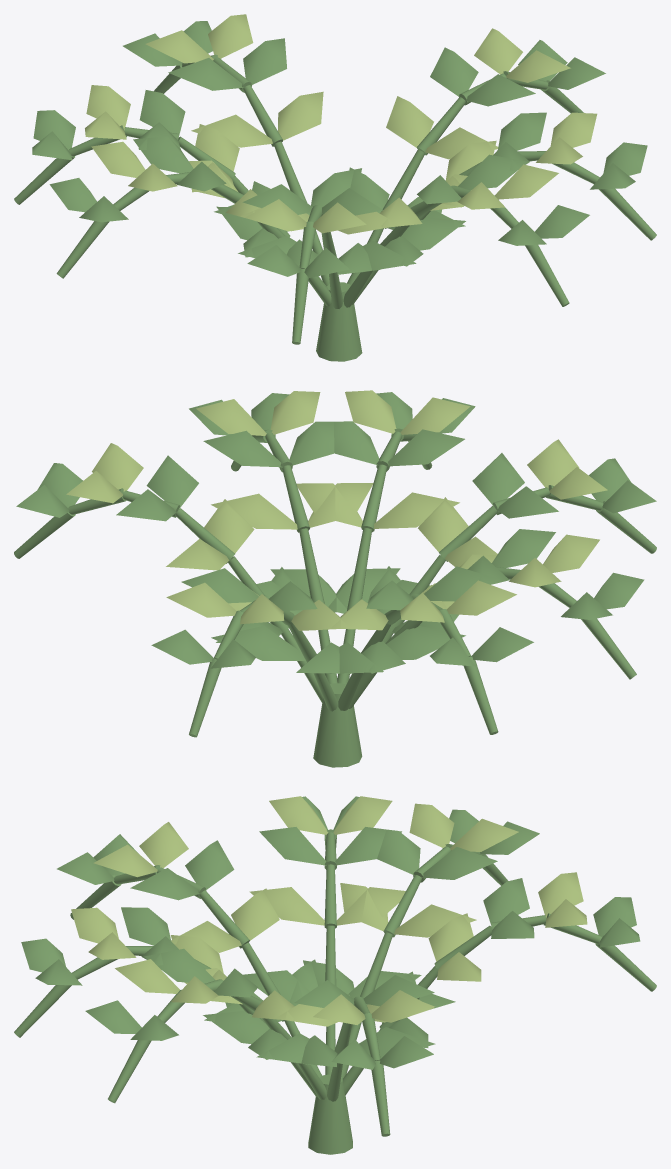
Rendered from plant-fern-mossy.glb.
3 renders of one model, top to bottom at view 1: azimuth 30°, elevation 25°; view 2: azimuth 150°, elevation 25°; view 3: azimuth 270°, elevation 25°, orthographic. The views are drawn at different scales.
Parts seen in each view (by area): view 1: plant-fern-kit-mossy-green, plant-fern-kit-mossy-leaf; view 2: plant-fern-kit-mossy-green, plant-fern-kit-mossy-leaf; view 3: plant-fern-kit-mossy-green, plant-fern-kit-mossy-leaf.
Part boxes in pixels (box(x1,y1,x2,y2)): plant-fern-kit-mossy-green: box(14, 21, 656, 361); plant-fern-kit-mossy-leaf: box(85, 14, 597, 234); plant-fern-kit-mossy-green: box(14, 392, 656, 767); plant-fern-kit-mossy-leaf: box(66, 390, 607, 630); plant-fern-kit-mossy-green: box(14, 796, 656, 1154); plant-fern-kit-mossy-leaf: box(71, 796, 587, 1026).
Size of the model in its own units: 1.8 by 0.7658 by 1.78.
